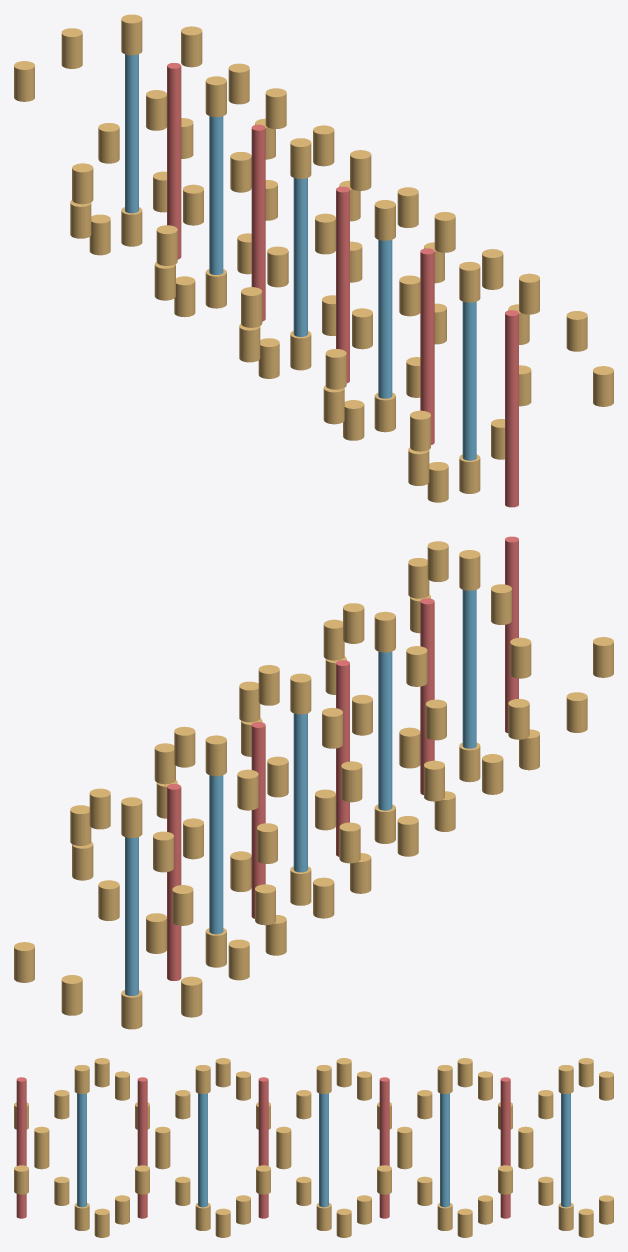
Rendered from dna-double-helix.glb.
3 views of the same model, one above another, from view 1: azimuth 30°, elevation 25°; view 2: azimuth 150°, elevation 25°; view 3: azimuth 270°, elevation 25° (orthographic). The views are drawn at different scales.
Visible parts, largest first — view 1: dna-double-helix-pair-0, dna-double-helix-pair-24, dna-double-helix-pair-6, dna-double-helix-pair-18, dna-double-helix-pair-12, dna-double-helix-pair-3, dna-double-helix-pair-9, dna-double-helix-pair-15, dna-double-helix-pair-21, dna-double-helix-pair-27, dna-double-helix-backbone-4-a, dna-double-helix-backbone-19-b (+44 smaller); view 2: dna-double-helix-pair-15, dna-double-helix-pair-3, dna-double-helix-pair-9, dna-double-helix-pair-21, dna-double-helix-pair-24, dna-double-helix-pair-27, dna-double-helix-pair-18, dna-double-helix-pair-6, dna-double-helix-pair-12, dna-double-helix-pair-0, dna-double-helix-backbone-4-b, dna-double-helix-backbone-5-a (+54 smaller); view 3: dna-double-helix-pair-0, dna-double-helix-pair-6, dna-double-helix-pair-12, dna-double-helix-pair-18, dna-double-helix-pair-24, dna-double-helix-pair-3, dna-double-helix-pair-9, dna-double-helix-pair-15, dna-double-helix-pair-21, dna-double-helix-pair-27, dna-double-helix-backbone-2-a, dna-double-helix-backbone-2-b (+48 smaller).
Boxes of the visible parts, x1=… form: dna-double-helix-pair-0: x1=505, y1=310, x2=518, y2=507; dna-double-helix-pair-24: x1=167, y1=63, x2=181, y2=259; dna-double-helix-pair-6: x1=420, y1=248, x2=434, y2=444; dna-double-helix-pair-18: x1=251, y1=124, x2=265, y2=321; dna-double-helix-pair-12: x1=336, y1=186, x2=349, y2=383; dna-double-helix-pair-3: x1=462, y1=301, x2=476, y2=460; dna-double-helix-pair-9: x1=378, y1=240, x2=392, y2=398; dna-double-helix-pair-15: x1=293, y1=178, x2=307, y2=336; dna-double-helix-pair-21: x1=209, y1=116, x2=223, y2=274; dna-double-helix-pair-27: x1=125, y1=54, x2=138, y2=213; dna-double-helix-backbone-4-a: x1=399, y1=275, x2=420, y2=316; dna-double-helix-backbone-19-b: x1=313, y1=125, x2=334, y2=166; dna-double-helix-pair-15: x1=293, y1=713, x2=307, y2=872; dna-double-helix-pair-3: x1=462, y1=590, x2=476, y2=748; dna-double-helix-pair-9: x1=378, y1=651, x2=392, y2=810; dna-double-helix-pair-21: x1=209, y1=775, x2=223, y2=934; dna-double-helix-pair-24: x1=167, y1=783, x2=181, y2=980; dna-double-helix-pair-27: x1=125, y1=837, x2=138, y2=995; dna-double-helix-pair-18: x1=251, y1=722, x2=265, y2=918; dna-double-helix-pair-6: x1=420, y1=598, x2=434, y2=794; dna-double-helix-pair-12: x1=336, y1=660, x2=349, y2=856; dna-double-helix-pair-0: x1=505, y1=536, x2=518, y2=732; dna-double-helix-backbone-4-b: x1=399, y1=727, x2=420, y2=768; dna-double-helix-backbone-5-a: x1=510, y1=637, x2=531, y2=678; dna-double-helix-pair-0: x1=16, y1=1077, x2=26, y2=1218; dna-double-helix-pair-6: x1=137, y1=1077, x2=147, y2=1218; dna-double-helix-pair-12: x1=258, y1=1077, x2=268, y2=1218; dna-double-helix-pair-18: x1=379, y1=1077, x2=389, y2=1218; dna-double-helix-pair-24: x1=500, y1=1077, x2=510, y2=1218; dna-double-helix-pair-3: x1=77, y1=1093, x2=86, y2=1207; dna-double-helix-pair-9: x1=198, y1=1093, x2=207, y2=1207; dna-double-helix-pair-15: x1=319, y1=1093, x2=328, y2=1207; dna-double-helix-pair-21: x1=440, y1=1093, x2=449, y2=1207; dna-double-helix-pair-27: x1=561, y1=1093, x2=570, y2=1207; dna-double-helix-backbone-2-a: x1=54, y1=1090, x2=69, y2=1119; dna-double-helix-backbone-2-b: x1=54, y1=1176, x2=69, y2=1205.
Size of the model in its own units: 0.033 by 0.035 by 0.119.
